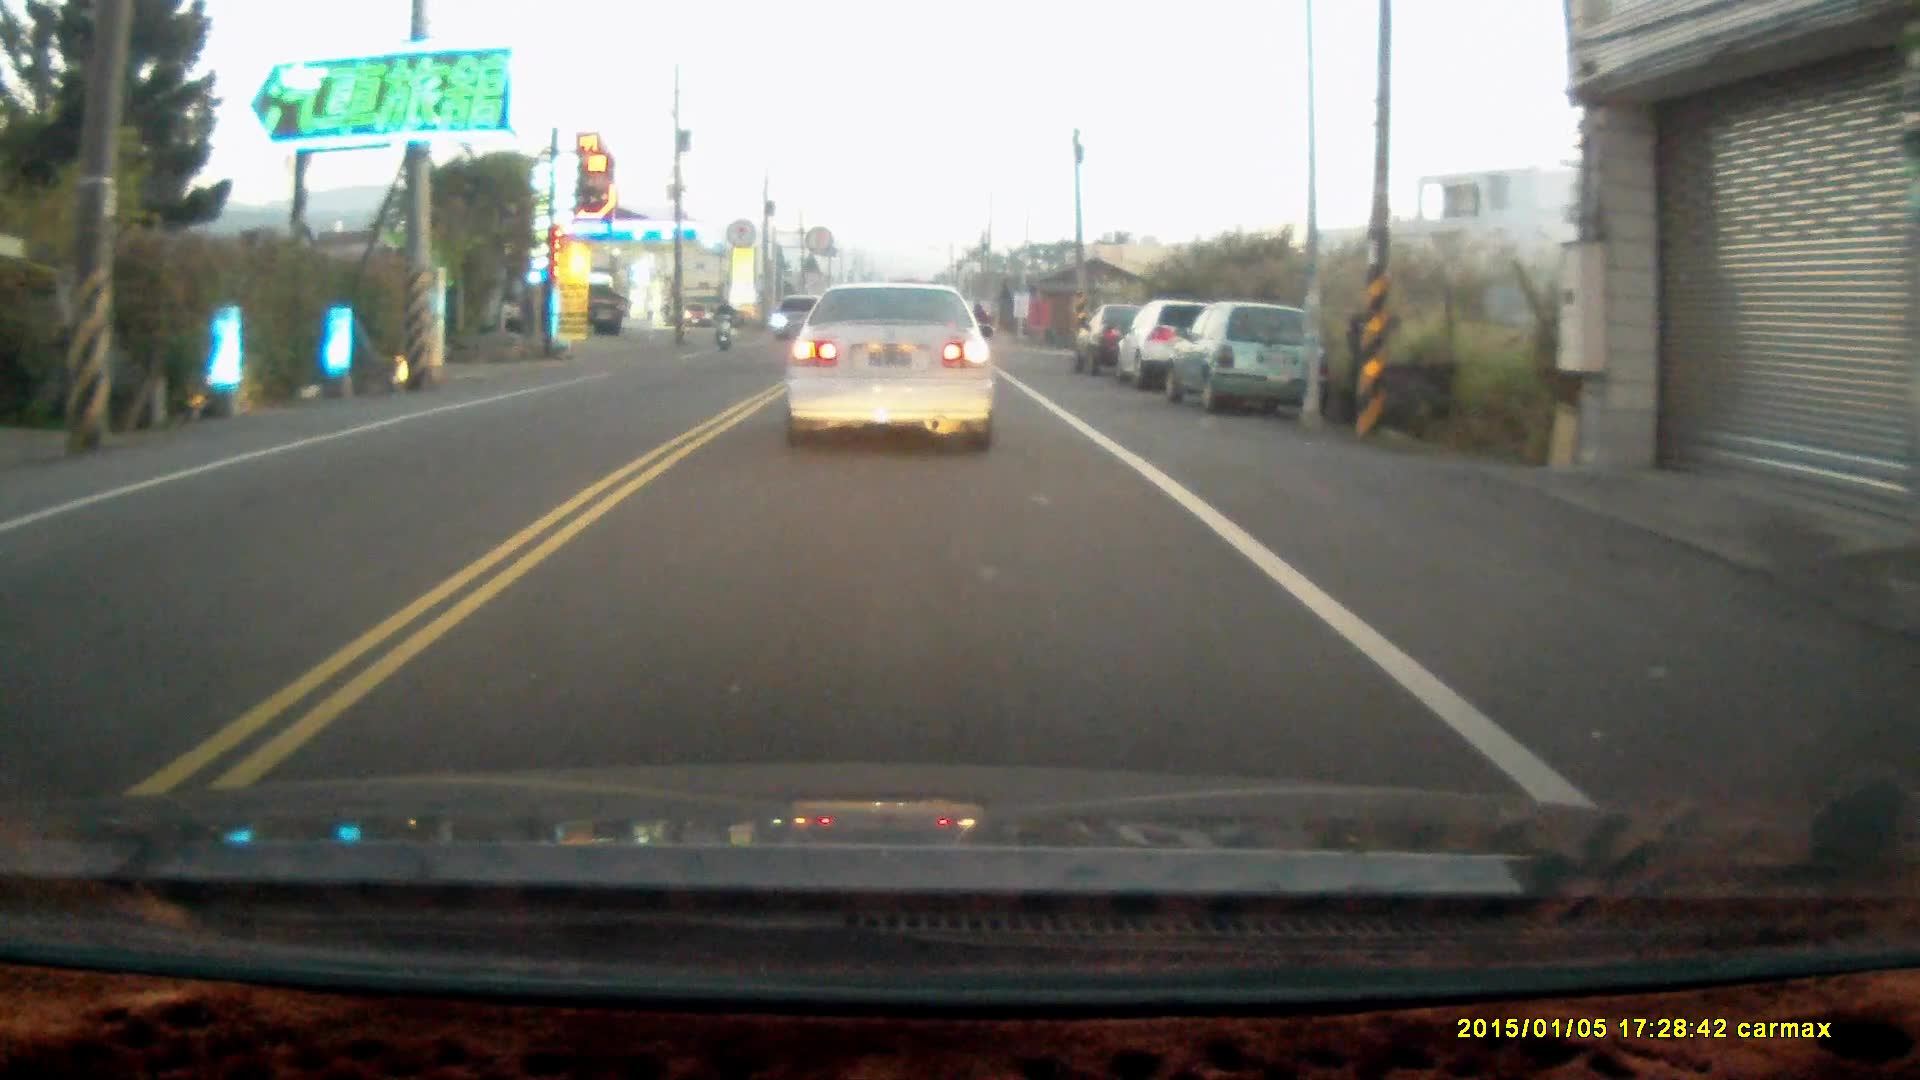rider: (712, 296, 735, 352)
vehicle: (781, 278, 999, 457), (1170, 302, 1328, 417), (1119, 301, 1250, 396), (1075, 303, 1177, 378)
